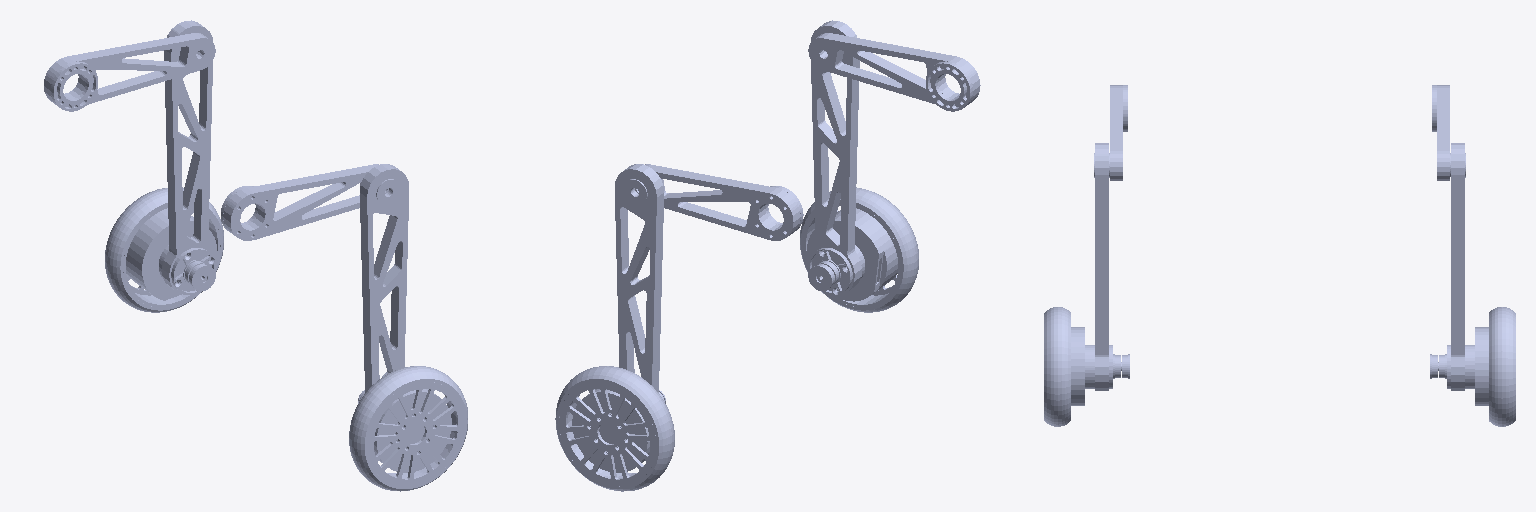
The robot description file, URDF, robot "wl":
<?xml version="1.0" encoding="utf-8"?>
<!-- This URDF was automatically created by SolidWorks to URDF Exporter! Originally created by [author] ([email redacted]) 
     Commit Version: 1.6.0-4-g7f85cfe  Build Version: 1.6.7995.38578
     For more information, please see http://wiki.ros.org/sw_urdf_exporter -->
<robot name="wl">
    <link name="base_link">
        <inertial>
            <origin xyz="-0.0076 0.0067 0.123056" rpy="0 0 0" />
            <mass value="8.8" />
            <inertia ixx="0.326092" ixy="3.6E-05" ixz="-0.00115" iyy="0.229526" iyz="0.006798" izz="0.220537" />
        </inertial>
        <visual>
            <origin xyz="0 0 0" rpy="0 0 0" />
            <geometry>
                <mesh filename="../meshes/base_link.STL" />
            </geometry>
            <material name="">
                <color rgba="0.79216 0.81961 0.93333 1" />
            </material>
        </visual>
        <collision>
            <origin xyz="0 0 0" rpy="0 0 0" />
            <geometry>
                <mesh filename="../meshes/base_link.STL" />
            </geometry>
        </collision>
    </link>
    <link name="lf0_Link">
        <inertial>
            <origin xyz="0.05976637 -0.00048182 0.01198236" rpy="0 0 0" />
            <mass value="0.16" />
            <inertia ixx="0.00006424" ixy="0.00000030" ixz="0.00012472" iyy="0.00116066" iyz="-0.00000101" izz="0.00117029" />
        </inertial>
        <visual>
            <origin xyz="0 0 0" rpy="0 0 0" />
            <geometry>
                <mesh filename="../meshes/lf0_Link.STL" />
            </geometry>
            <material name="">
                <color rgba="0.792156862745098 0.819607843137255 0.933333333333333 1" />
            </material>
        </visual>
        <collision>
            <origin xyz="0 0 0" rpy="0 0 0" />
            <geometry>
                <mesh filename="../meshes/lf0_Link.STL" />
            </geometry>
        </collision>
    </link>
    <joint name="lf0_Joint" type="revolute">
        <origin xyz="0.054 0.1705 0.131" rpy="-1.5708 0 0" />
        <parent link="base_link" />
        <child link="lf0_Link" />
        <axis xyz="0 0 1" />
        <dynamics damping="0" friction="0"/>
        <limit lower="-0.3363" upper="1.3479" effort="30" velocity="1000" />
    </joint>
    <link name="lf1_Link">
        <inertial>
            <origin xyz="-0.00032544 0.15899848 0.00798168" rpy="0 0 0" />
            <mass value="0.36" />
            <inertia ixx="0.01248770" ixy="-0.00000383" ixz="-0.00000106" iyy="0.00011869" iyz="0.00042404" izz="0.01251325" />
        </inertial>
        <visual>
            <origin xyz="0 0 0" rpy="0 0 0" />
            <geometry>
                <mesh filename="../meshes/lf1_Link.STL" />
            </geometry>
            <material name="">
                <color rgba="0.792156862745098 0.819607843137255 0.933333333333333 1" />
            </material>
        </visual>
        <collision>
            <origin xyz="0 0 0" rpy="0 0 0" />
            <geometry>
                <mesh filename="../meshes/lf1_Link.STL" />
            </geometry>
        </collision>
    </link>
    <joint name="lf1_Joint" type="revolute">
        <origin xyz="0.15 -0.00010199 0.0205" rpy="0 0 0" />
        <parent link="lf0_Link" />
        <child link="lf1_Link" />
        <axis xyz="0 0 1" />
        <dynamics damping="0" friction="0"/>
        <limit lower="-1.0" upper="1.25" effort="30" velocity="1000" />
    </joint>
    <link name="l_wheel_Link">
        <inertial>
            <origin xyz="-0.00004507 -0.00038447 0.02376028" rpy="0 0 0" />
            <mass value="1.22" />
            <inertia ixx="0.00174370" ixy="-0.00000195" ixz="-0.00000028" iyy="0.00176013" iyz="-0.00000241" izz="0.00173973" />
        </inertial>
        <visual>
            <origin xyz="0 0 0" rpy="0 0 0" />
            <geometry>
                <mesh filename="../meshes/l_wheel_Link.STL" />
            </geometry>
            <material name="">
                <color rgba="0.792156862745098 0.819607843137255 0.933333333333333 1" />
            </material>
        </visual>
        <collision>
            <origin xyz="0 0 0.03" rpy="0 0 0" />
            <geometry>
                <cylinder length="0.025" radius="0.0675"/>
            </geometry>
        </collision>
    </link>
    <joint name="l_wheel_Joint" type="revolute">
        <origin xyz="1.857E-05 0.25 0.0275" rpy="0 0 0" />
        <parent link="lf1_Link" />
        <child link="l_wheel_Link" />
        <axis xyz="0 0 1" />
        <dynamics damping="0" friction="0"/>
        <limit effort="5" velocity="1000" />
    </joint>
    <link name="rf0_Link">
        <inertial>
            <origin xyz="0.05976637 -0.00048182 0.01198236" rpy="0 0 0" />
            <mass value="0.16" />
            <inertia ixx="0.00006424" ixy="0.00000174" ixz="0.00012472" iyy="0.00116066" iyz="-0.00000084" izz="0.00117029" />
        </inertial>
        <visual>
            <origin xyz="0 0 0" rpy="0 0 0" />
            <geometry>
                <mesh filename="../meshes/rf0_Link.STL" />
            </geometry>
            <material name="">
                <color rgba="0.792156862745098 0.819607843137255 0.933333333333333 1" />
            </material>
        </visual>
        <collision>
            <origin xyz="0 0 0" rpy="0 0 0" />
            <geometry>
                <mesh filename="../meshes/rf0_Link.STL" />
            </geometry>
        </collision>
    </link>
    <joint name="rf0_Joint" type="revolute">
        <origin xyz="0.054 -0.1705 0.131" rpy="1.5708 0 0" />
        <parent link="base_link" />
        <child link="rf0_Link" />
        <axis xyz="0 0 1" />
        <dynamics damping="0" friction="0"/>
        <limit lower="-1.3479" upper="0.3363" effort="30" velocity="1000" />
    </joint>
    <link name="rf1_Link">
        <inertial>
            <origin xyz="0.00032544 -0.15899848 0.00798168" rpy="0 0 0" />
            <mass value="0.36" />
            <inertia ixx="0.01248770" ixy="-0.00000553" ixz="0.00000112" iyy="0.00011869" iyz="-0.00042404" izz="0.01251325" />
        </inertial>
        <visual>
            <origin xyz="0 0 0" rpy="0 0 0" />
            <geometry>
                <mesh filename="../meshes/rf1_Link.STL" />
            </geometry>
            <material name="">
                <color rgba="0.792156862745098 0.819607843137255 0.933333333333333 1" />
            </material>
        </visual>
        <collision>
            <origin xyz="0 0 0" rpy="0 0 0" />
            <geometry>
                <mesh filename="../meshes/rf1_Link.STL" />
            </geometry>
        </collision>
    </link>
    <joint name="rf1_Joint" type="revolute">
        <origin xyz="0.15 9.5536E-05 0.0205" rpy="0 0 0" />
        <parent link="rf0_Link" />
        <child link="rf1_Link" />
        <axis xyz="0 0 1" />
        <dynamics damping="0" friction="0"/>
        <limit lower="-1.25" upper="1.0" effort="30" velocity="1000" />
    </joint>
    <link name="r_wheel_Link">
        <inertial>
            <origin xyz="0.00038403 0.00004865 0.02376028" rpy="0 0 0" />
            <mass value="1.22" />
            <inertia ixx="0.00176009" ixy="-0.00000211" ixz="0.00000241" iyy="0.00174374" iyz="0.00000031" izz="0.00173973" />
        </inertial>
        <visual>
            <origin xyz="0 0 0" rpy="0 0 0" />
            <geometry>
                <mesh filename="../meshes/r_wheel_Link.STL" />
            </geometry>
            <material name="">
                <color rgba="0.792156862745098 0.819607843137255 0.933333333333333 1" />
            </material>
        </visual>
        <collision>
            <origin xyz="0 0 0.03" rpy="0 0 0" />
            <geometry>
                <cylinder length="0.025" radius="0.0675"/>
            </geometry>
        </collision>
    </link>
    <joint name="r_wheel_Joint" type="revolute">
        <origin xyz="1.5909E-05 -0.25 0.0275" rpy="0 0 0" />
        <parent link="rf1_Link" />
        <child link="r_wheel_Link" />
        <axis xyz="0 0 1" />
        <dynamics damping="0" friction="0"/>
        <limit effort="5" velocity="1000" />
    </joint>
</robot>

--- What the picture shows (computed from the rendered views, not written in the file) ---
3 views of the same robot in one strip: view 1: azimuth 30°, elevation 25°; view 2: azimuth 150°, elevation 25°; view 3: azimuth 270°, elevation 25° (orthographic).
Robot: wl — 7 links, 6 joints (6 revolute); root link base_link; default pose: every joint at zero.
Links seen in each view (by area): view 1: r_wheel_Link, lf1_Link, rf1_Link, l_wheel_Link, lf0_Link, rf0_Link; view 2: l_wheel_Link, rf1_Link, lf1_Link, r_wheel_Link, rf0_Link, lf0_Link; view 3: rf1_Link, lf1_Link, l_wheel_Link, r_wheel_Link, lf0_Link, rf0_Link.
Link boxes in pixels (x1=…): r_wheel_Link: x1=349, y1=366, x2=467, y2=491; lf1_Link: x1=159, y1=20, x2=215, y2=294; rf1_Link: x1=358, y1=164, x2=408, y2=403; l_wheel_Link: x1=105, y1=188, x2=223, y2=312; lf0_Link: x1=44, y1=33, x2=215, y2=111; rf0_Link: x1=221, y1=164, x2=378, y2=240; l_wheel_Link: x1=555, y1=366, x2=674, y2=491; rf1_Link: x1=808, y1=20, x2=864, y2=294; lf1_Link: x1=615, y1=164, x2=665, y2=403; r_wheel_Link: x1=800, y1=187, x2=918, y2=312; rf0_Link: x1=808, y1=33, x2=980, y2=111; lf0_Link: x1=645, y1=164, x2=803, y2=240; rf1_Link: x1=1085, y1=143, x2=1129, y2=390; lf1_Link: x1=1430, y1=143, x2=1474, y2=390; l_wheel_Link: x1=1475, y1=307, x2=1515, y2=426; r_wheel_Link: x1=1044, y1=307, x2=1084, y2=426; lf0_Link: x1=1432, y1=85, x2=1449, y2=180; rf0_Link: x1=1110, y1=85, x2=1127, y2=180.
Size in the robot's own frame: 0.244 by 0.529 by 0.3439 metres.
6 mesh visuals loaded from 7 distinct referenced files (6 binary STL); not drawn: 1 (reference not matched to a file when rendering).